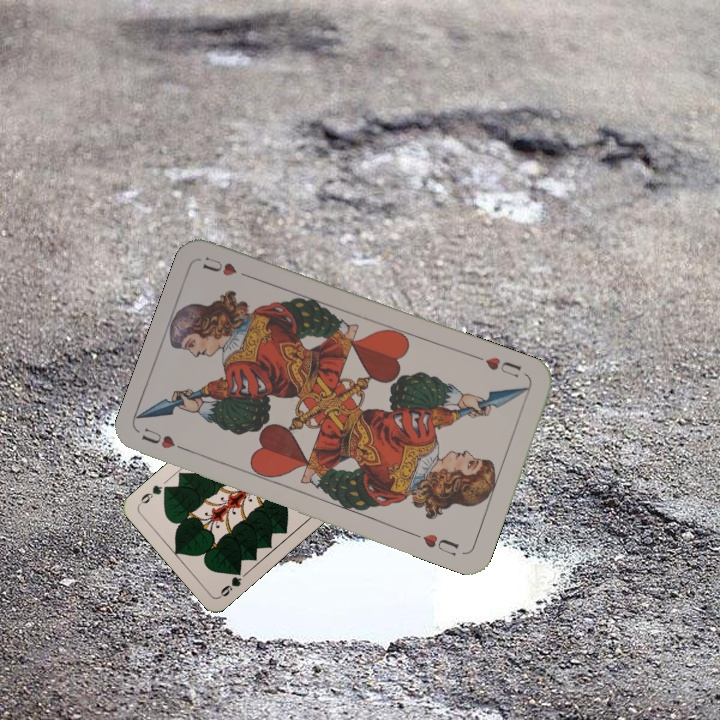G9: (216, 564, 244, 600)
HU: (137, 423, 194, 455), (481, 353, 524, 381)
